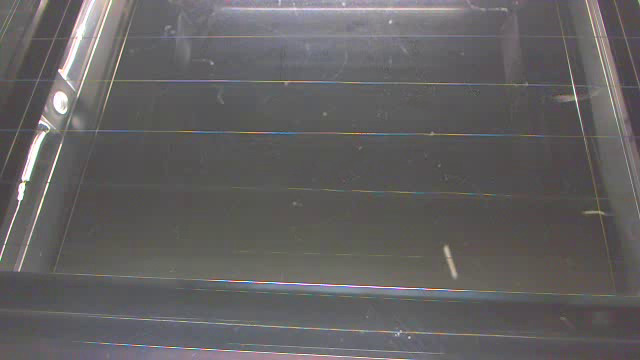alpha: (441, 240, 459, 282), (554, 92, 599, 106), (579, 209, 611, 216)
